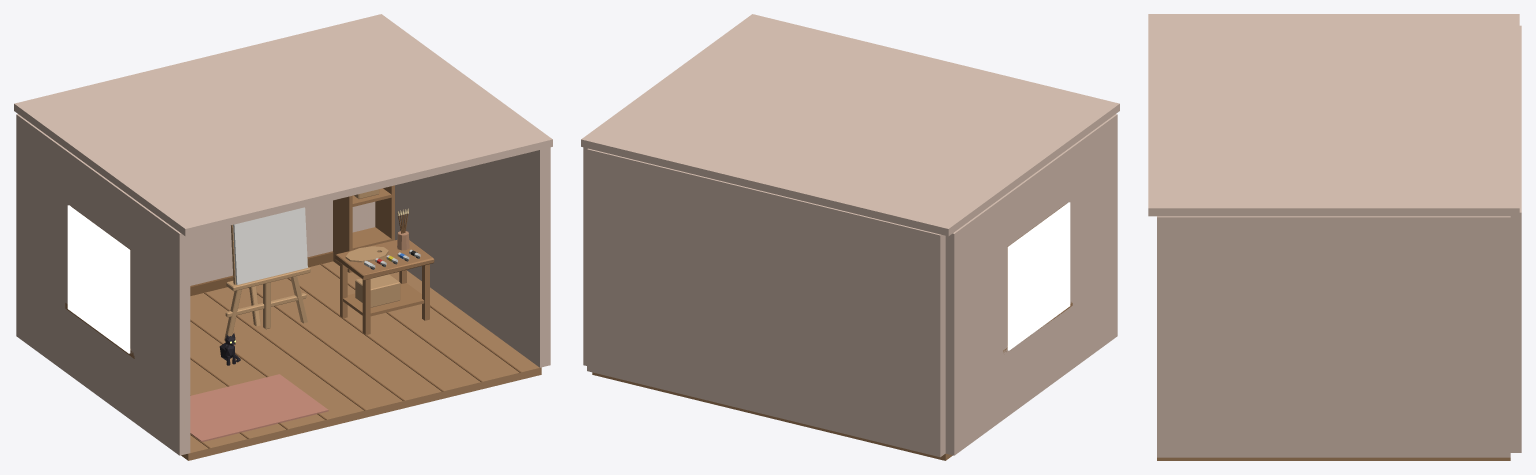
The model's file is D113_Atelier.fbx.
The picture shows the model from 3 angles, left to right: view 1: azimuth 30°, elevation 25°; view 2: azimuth 150°, elevation 25°; view 3: azimuth 270°, elevation 25°; orthographic projection. The views are drawn at different scales.
Parts seen in each view (by area): view 1: Ceiling, Floor, WallRight, WallL_low, WallL_high, WindowSky, WallL_a, Rug, WallL_b, Canvas, WallBack, TableTop (+6 smaller); view 2: WallBack, Ceiling, WallL_low, WallL_high, WindowSky, WallL_b, WallL_a, Floor, WallRight; view 3: WallRight, Ceiling, WallBack, Floor.
Boxes of the visible parts, <box> form: Ceiling: <box>14,14,552,236</box>; Floor: <box>181,261,541,460</box>; WallRight: <box>395,147,550,367</box>; WallL_low: <box>16,270,190,455</box>; WallL_high: <box>16,114,190,285</box>; WindowSky: <box>67,205,130,353</box>; WallL_a: <box>130,250,190,388</box>; Rug: <box>190,374,328,441</box>; WallL_b: <box>16,166,70,304</box>; Canvas: <box>233,207,307,284</box>; WallBack: <box>190,200,375,285</box>; TableTop: <box>335,240,434,280</box>; WallBack: <box>587,148,945,457</box>; Ceiling: <box>581,14,1119,236</box>; WallL_low: <box>945,270,1117,455</box>; WallL_high: <box>945,114,1117,285</box>; WindowSky: <box>1007,202,1070,350</box>; WallL_b: <box>945,247,1007,388</box>; WallL_a: <box>1067,166,1117,303</box>; Floor: <box>592,372,952,460</box>; WallRight: <box>583,147,587,365</box>; WallRight: <box>1157,216,1510,457</box>; Ceiling: <box>1148,14,1519,216</box>; WallBack: <box>1510,25,1521,452</box>; Floor: <box>1157,457,1510,460</box>.
Size of the model in its own units: 5.28 by 3.2 by 4.22.
